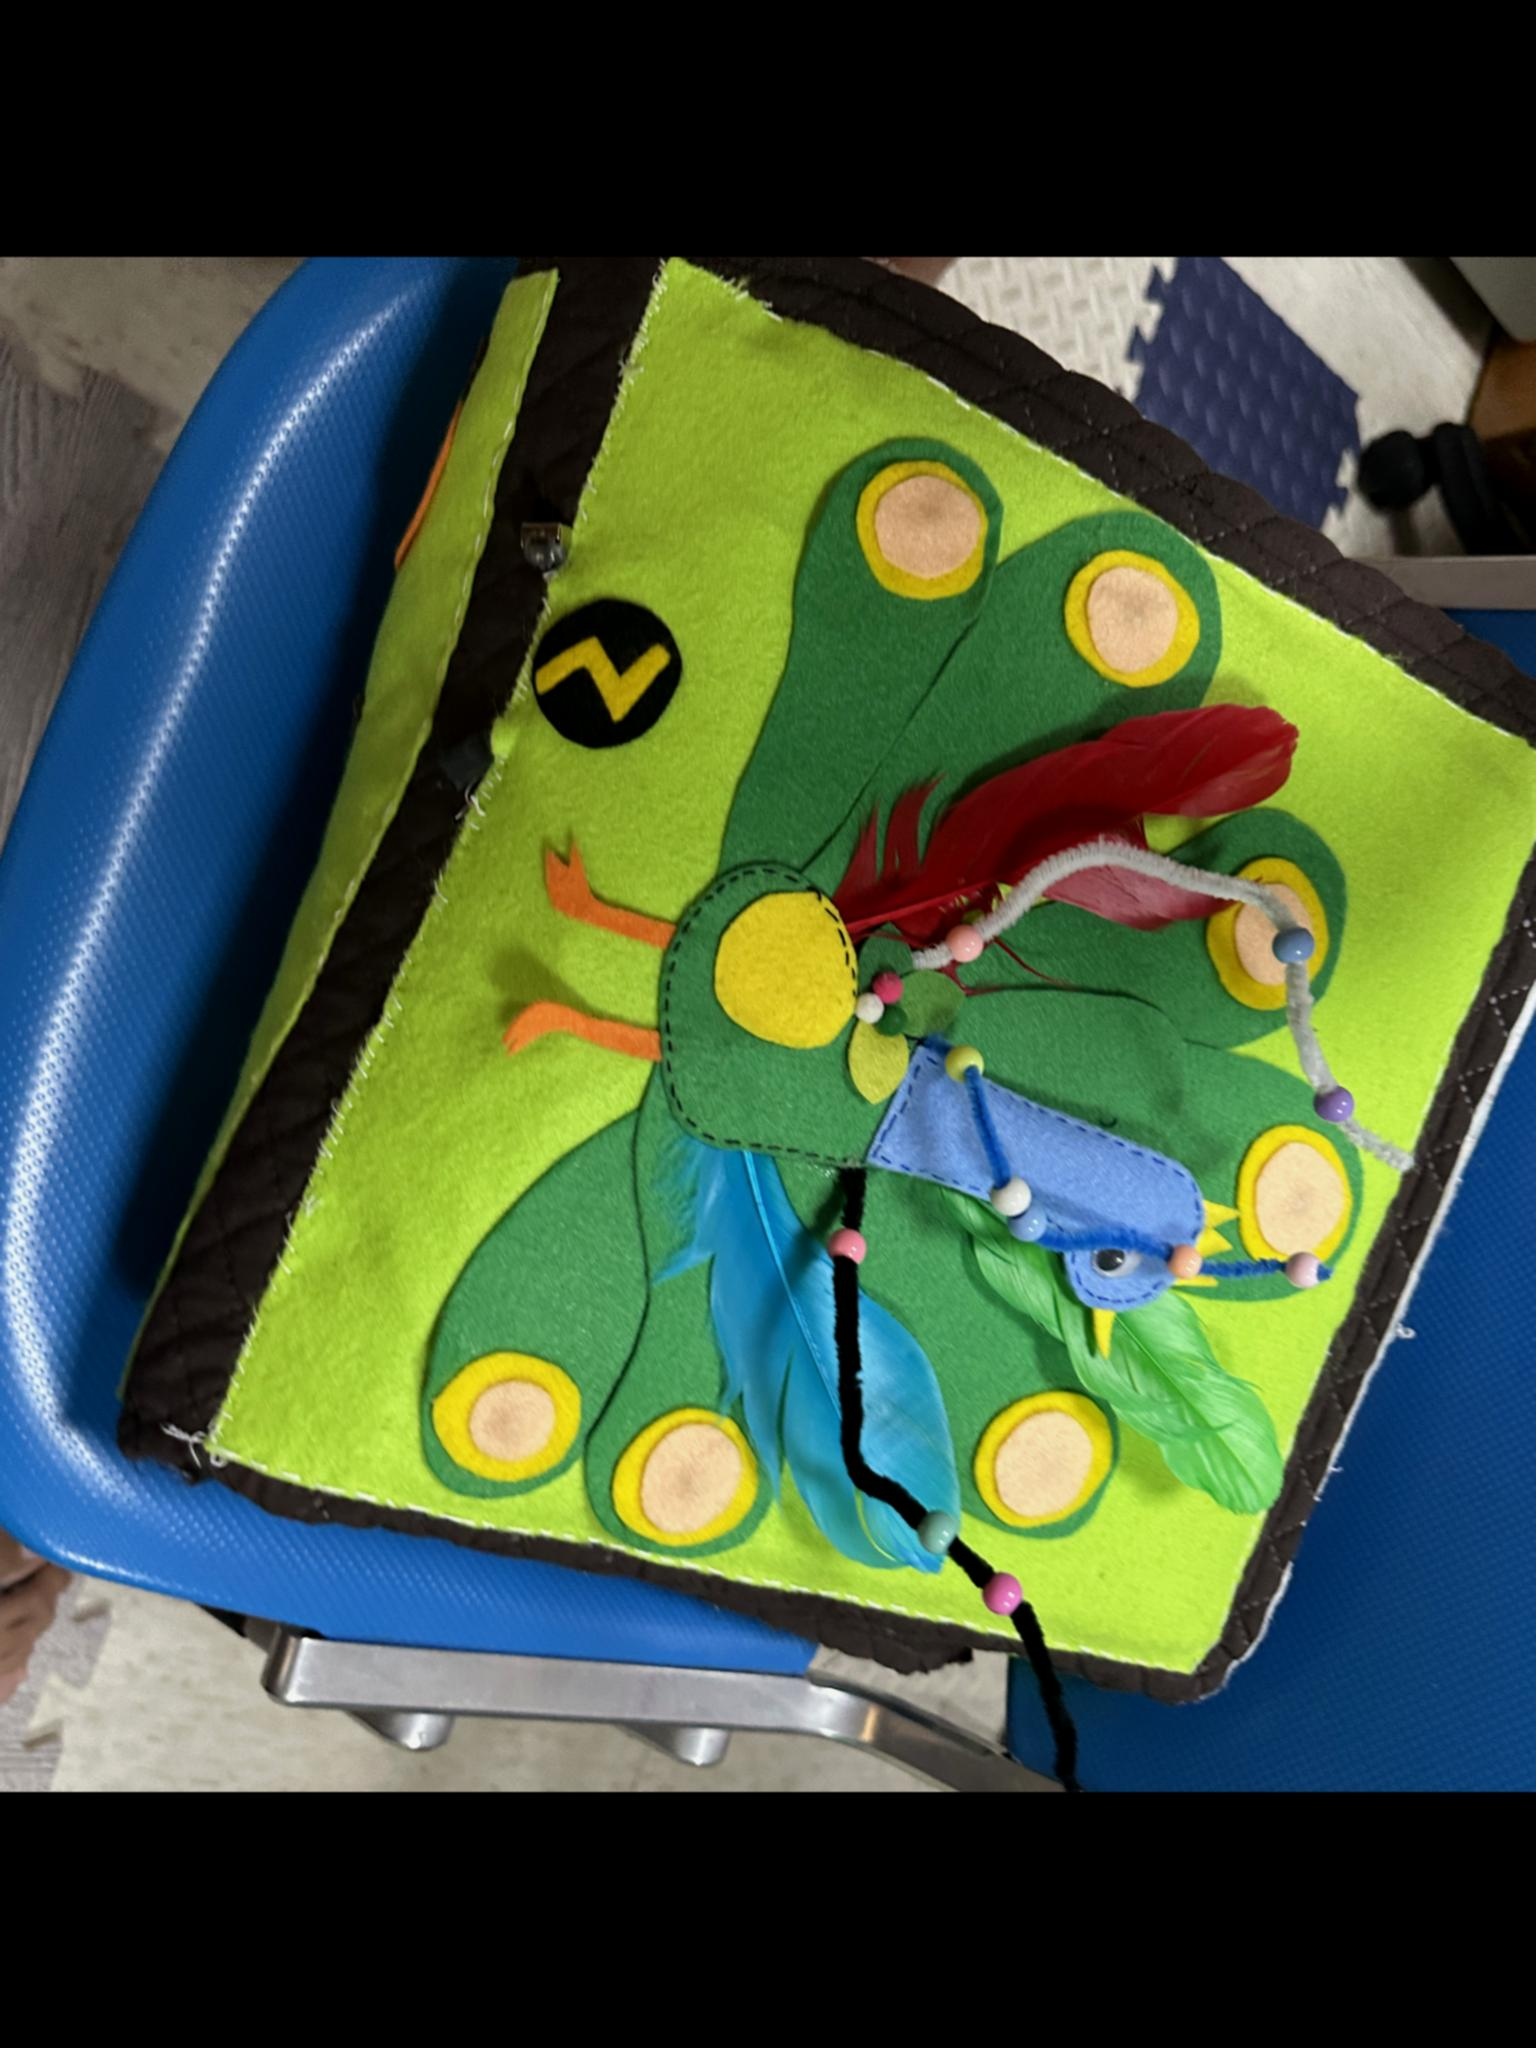bead: (1146, 1223, 1212, 1289), (809, 1204, 871, 1266), (918, 1500, 970, 1558), (1264, 929, 1316, 981), (1306, 1084, 1366, 1126), (1286, 1239, 1336, 1289), (940, 918, 988, 970), (978, 1570, 1032, 1616), (990, 1173, 1034, 1225), (1012, 1214, 1052, 1264), (939, 1047, 986, 1083)
